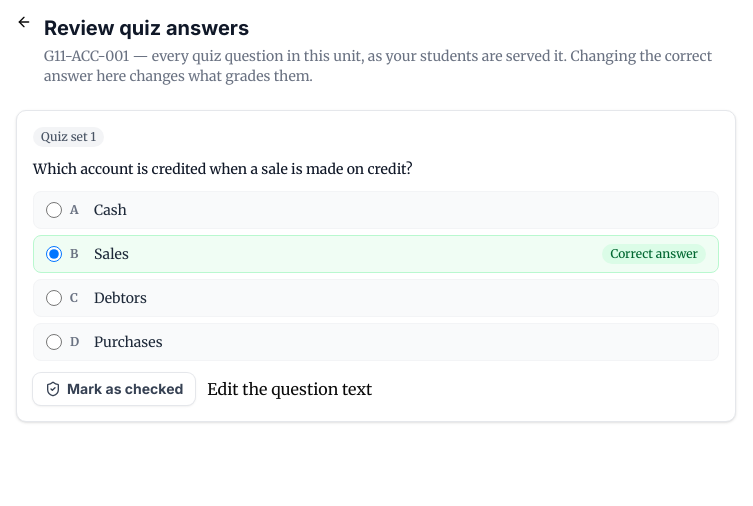
Test case: choosing a different correct option › does not claim a fork when the response says none was created
The image size is (753, 506).
Click the radio button named "Debtors".
click(54, 298)  # box [46,290,62,306]
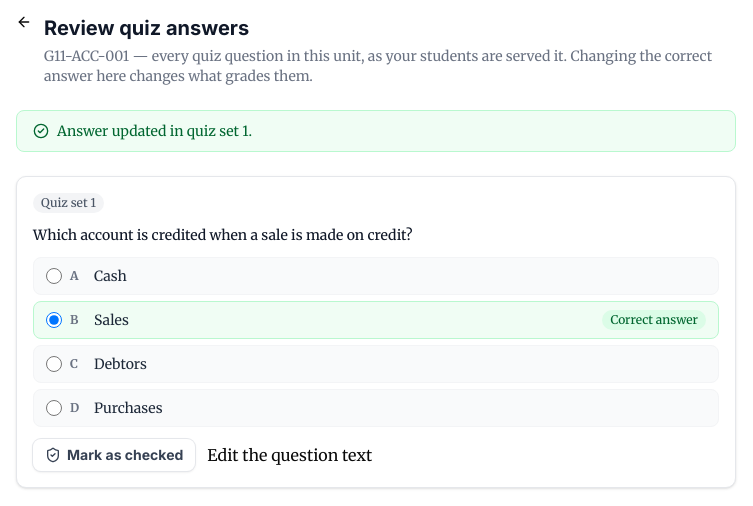
Expected: the element with test id "correction-result" does not show "own copy of this unit", [16,110,736,152]
Now the element with test id "correction-result" shows "Answer updated", box [57,122,252,140]
